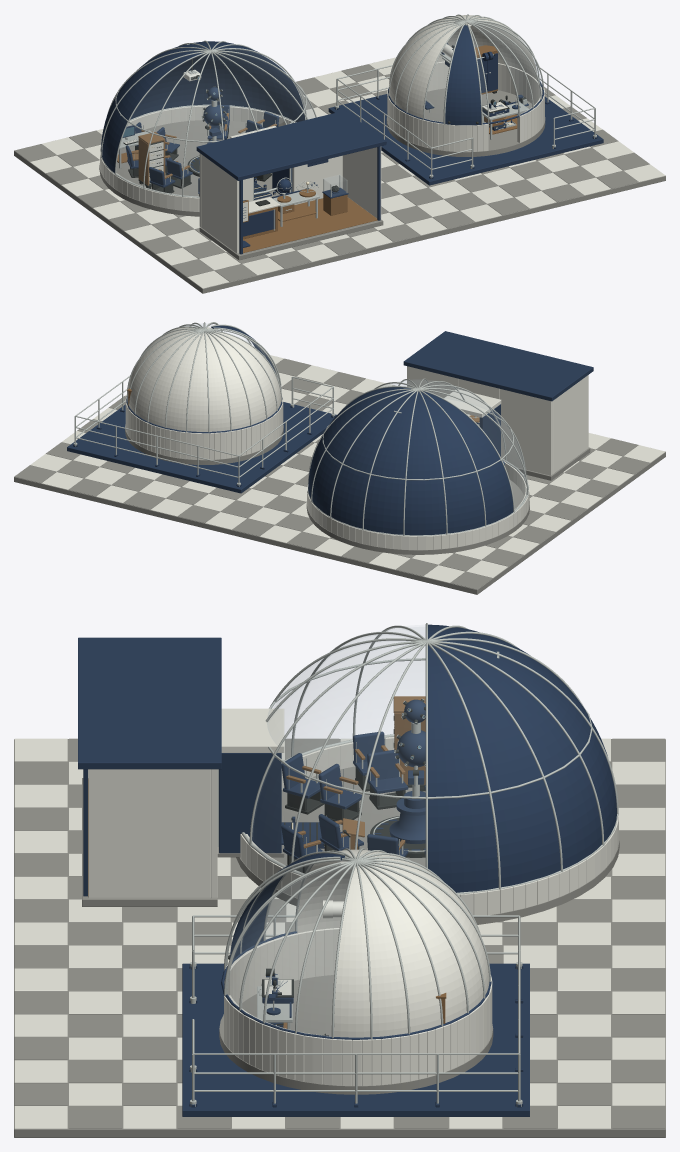
File: planetarium-and-optical-observatory-publ-be00f747-starter-scene__31869.glb
The picture shows the model from 3 angles, top to bottom: view 1: azimuth 30°, elevation 25°; view 2: azimuth 150°, elevation 25°; view 3: azimuth 270°, elevation 25°; orthographic projection. The views are drawn at different scales.
Parts seen in each view (by area): view 1: 000-astronomy-centre-base/3, 000-astronomy-centre-base/1, 046-observatory-dome-base/1, 001-planetarium-dome-shell/2, 003-roofed-planetarium-foyer/2, 003-roofed-planetarium-foyer/1, 000-astronomy-centre-base/2, 001-planetarium-dome-shell/0, 001-planetarium-dome-shell/1, 001-planetarium-dome-shell/4, 046-observatory-dome-base/0, 047-sliding-dome-shutter/2 (+11 smaller); view 2: 001-planetarium-dome-shell/2, 000-astronomy-centre-base/3, 046-observatory-dome-base/1, 000-astronomy-centre-base/1, 003-roofed-planetarium-foyer/1, 003-roofed-planetarium-foyer/2, 000-astronomy-centre-base/2, 001-planetarium-dome-shell/0, 001-planetarium-dome-shell/1, 046-observatory-dome-base/0, 001-planetarium-dome-shell/4, 001-planetarium-dome-shell/3 (+3 smaller); view 3: 000-astronomy-centre-base/3, 000-astronomy-centre-base/1, 046-observatory-dome-base/1, 001-planetarium-dome-shell/2, 000-astronomy-centre-base/2, 003-roofed-planetarium-foyer/2, 003-roofed-planetarium-foyer/1, 001-planetarium-dome-shell/0, 001-planetarium-dome-shell/3, 046-observatory-dome-base/0, 001-planetarium-dome-shell/1, 002-dome-entrance-vestibule/2 (+17 smaller).
Boxes of the visible parts, x1,y1,x2,y2 form: 000-astronomy-centre-base/3: (14,64,665,293); 000-astronomy-centre-base/1: (30,57,665,288); 046-observatory-dome-base/1: (387,15,544,151); 001-planetarium-dome-shell/2: (101,41,305,172); 003-roofed-planetarium-foyer/2: (196,110,386,254); 003-roofed-planetarium-foyer/1: (199,146,381,253); 000-astronomy-centre-base/2: (328,94,603,185); 001-planetarium-dome-shell/0: (100,40,316,197); 001-planetarium-dome-shell/1: (100,105,294,211); 001-planetarium-dome-shell/4: (99,120,272,216); 046-observatory-dome-base/0: (388,14,543,123); 047-sliding-dome-shutter/2: (445,25,481,125); 001-planetarium-dome-shell/2: (308,387,513,535); 000-astronomy-centre-base/3: (14,358,665,594); 046-observatory-dome-base/1: (125,327,283,459); 000-astronomy-centre-base/1: (30,355,665,582); 003-roofed-planetarium-foyer/1: (407,366,588,475); 003-roofed-planetarium-foyer/2: (403,331,593,401); 000-astronomy-centre-base/2: (67,402,336,493); 001-planetarium-dome-shell/0: (307,378,528,536); 001-planetarium-dome-shell/1: (307,461,529,550); 046-observatory-dome-base/0: (127,322,282,432); 001-planetarium-dome-shell/4: (306,480,529,554); 001-planetarium-dome-shell/3: (379,380,526,494); 000-astronomy-centre-base/3: (14,738,665,1137); 000-astronomy-centre-base/1: (14,738,665,1128); 046-observatory-dome-base/1: (224,849,492,1085); 001-planetarium-dome-shell/2: (428,624,616,892); 000-astronomy-centre-base/2: (182,963,529,1116); 003-roofed-planetarium-foyer/2: (78,637,221,896); 003-roofed-planetarium-foyer/1: (88,769,217,898); 001-planetarium-dome-shell/0: (241,623,618,894); 001-planetarium-dome-shell/3: (252,626,425,858); 046-observatory-dome-base/0: (224,848,490,1039); 001-planetarium-dome-shell/1: (240,737,618,915); 002-dome-entrance-vestibule/2: (219,753,281,853).
Bounding box in the file's own units: 17 × 4.36 × 12.
